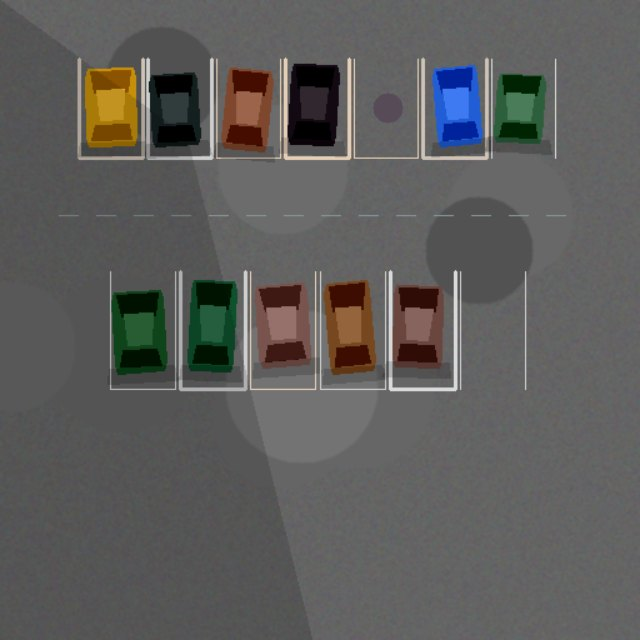space-empty: (460, 271, 525, 389), (354, 59, 417, 157)
space-occupied: (110, 271, 175, 389), (180, 271, 245, 389), (250, 271, 315, 389), (320, 271, 385, 389), (390, 271, 455, 389), (79, 59, 143, 157), (147, 59, 211, 157), (216, 59, 280, 157), (285, 59, 349, 157), (491, 59, 555, 157), (423, 59, 486, 157)
